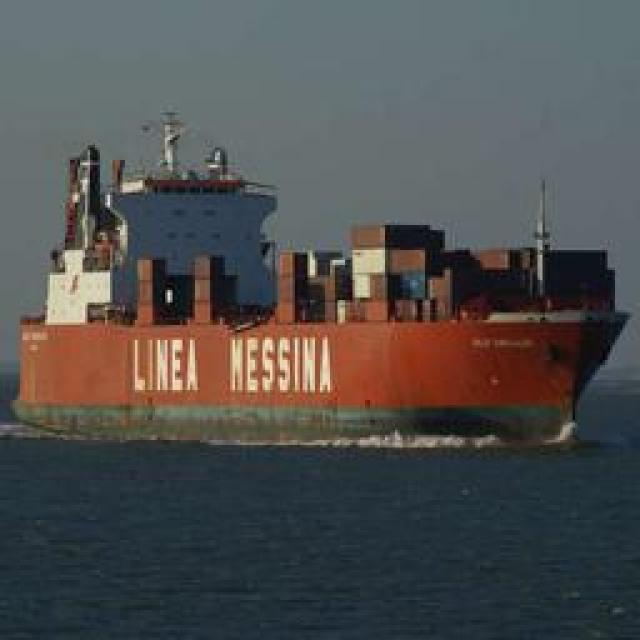ship2: (9, 112, 632, 452)
